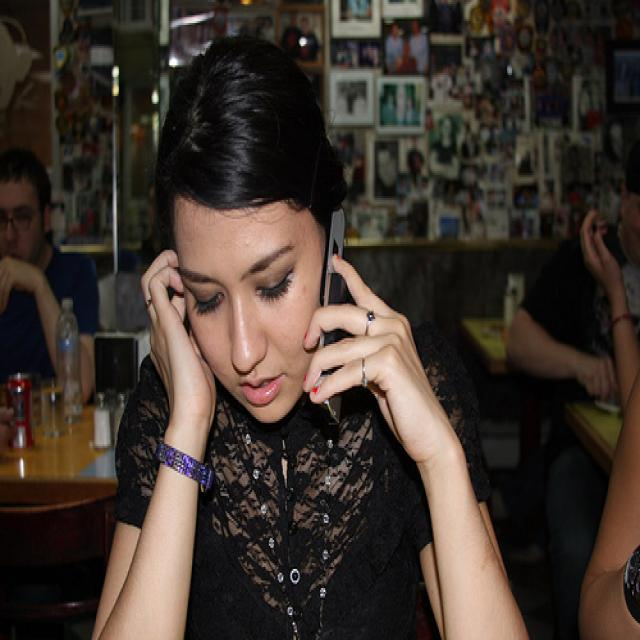chair: (0, 489, 114, 637)
dining table: (0, 406, 115, 512), (537, 375, 623, 460), (462, 318, 516, 375)
